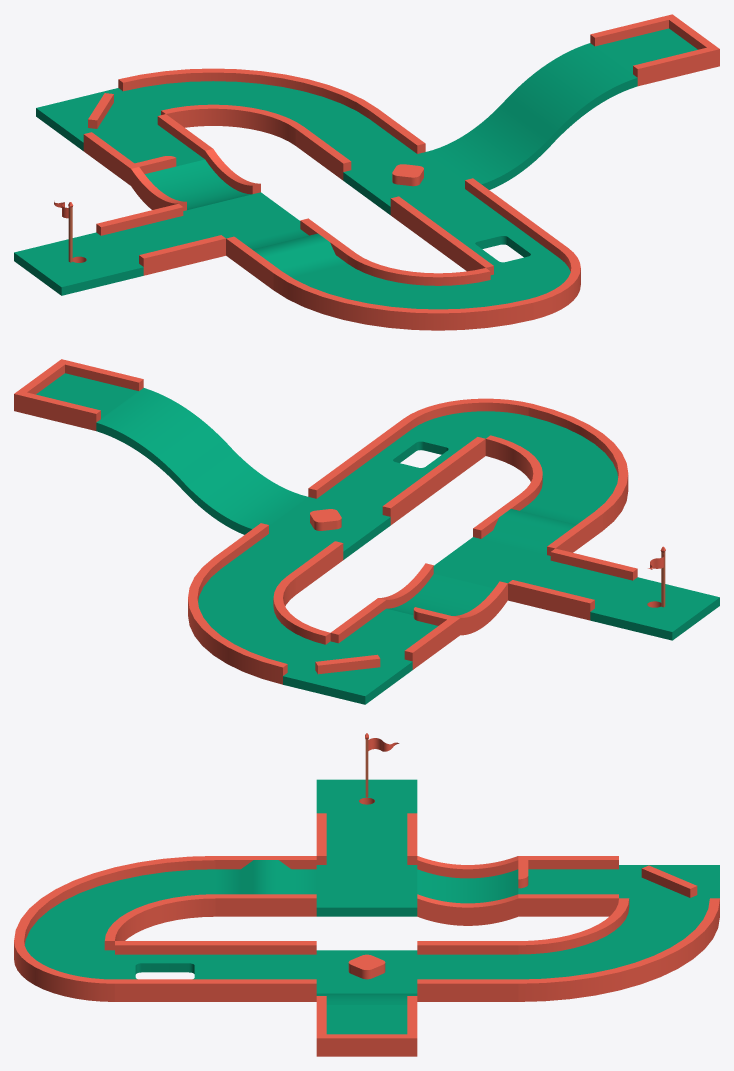
Rendered from Level12.fbx.
3 renders of one model, top to bottom at view 1: azimuth 30°, elevation 25°; view 2: azimuth 150°, elevation 25°; view 3: azimuth 270°, elevation 25°, orthographic. The views are drawn at different scales.
Parts seen in each view (by area): view 1: bend_large (×2), straight (×3), slope_center_smoothD_long, end, open_hole, straight_gap, straight_hill, valley, straight_hole, open_diagonal, open_obstacle, open (+1 smaller); view 2: bend_large (×2), straight (×3), slope_center_smoothD_long, end, straight_gap, open_diagonal, open_hole, straight_hill, valley, straight_hole, open_obstacle, bend_open (+1 smaller); view 3: bend_large (×2), straight (×3), valley, straight_hill, straight_gap, straight_hole, end, open, bend_open, open_obstacle, open_hole, open_diagonal (+1 smaller).
Part boxes in pixels (x1,y1,x2,y2): bend_large (×2): (118,68,533,330); straight (×3): (96,108,519,275); slope_center_smoothD_long: (426,43,637,189); end: (590,14,719,86); open_hole: (14,232,143,295); straight_gap: (83,114,212,185); straight_hill: (226,218,355,289); valley: (131,149,260,210); straight_hole: (438,213,567,274); open_diagonal: (36,88,157,150); open_obstacle: (343,152,464,214); open: (183,192,300,242); bend_large (×2): (188,404,628,684); straight (×3): (213,453,637,620); slope_center_smoothD_long: (96,388,307,534); end: (14,359,143,430); straight_gap: (330,598,460,669); open_diagonal: (283,641,412,704); open_hole: (590,577,719,640); straight_hill: (473,493,602,555); valley: (379,563,507,635); straight_hole: (356,418,485,490); open_obstacle: (269,497,390,559); bend_open: (404,398,532,443); bend_large (×2): (14,856,719,1001); straight (×3): (215,813,518,1001); valley: (417,856,518,925); straight_hill: (215,856,316,916); straight_gap: (518,856,618,916); straight_hole: (115,941,215,1001); end: (316,996,417,1056); open: (316,865,417,916); bend_open: (14,941,114,1001); open_obstacle: (316,950,417,992); open_hole: (316,779,417,822); open_diagonal: (619,865,719,907).
Bounding box in the file's own units: 80 × 11 × 70.
